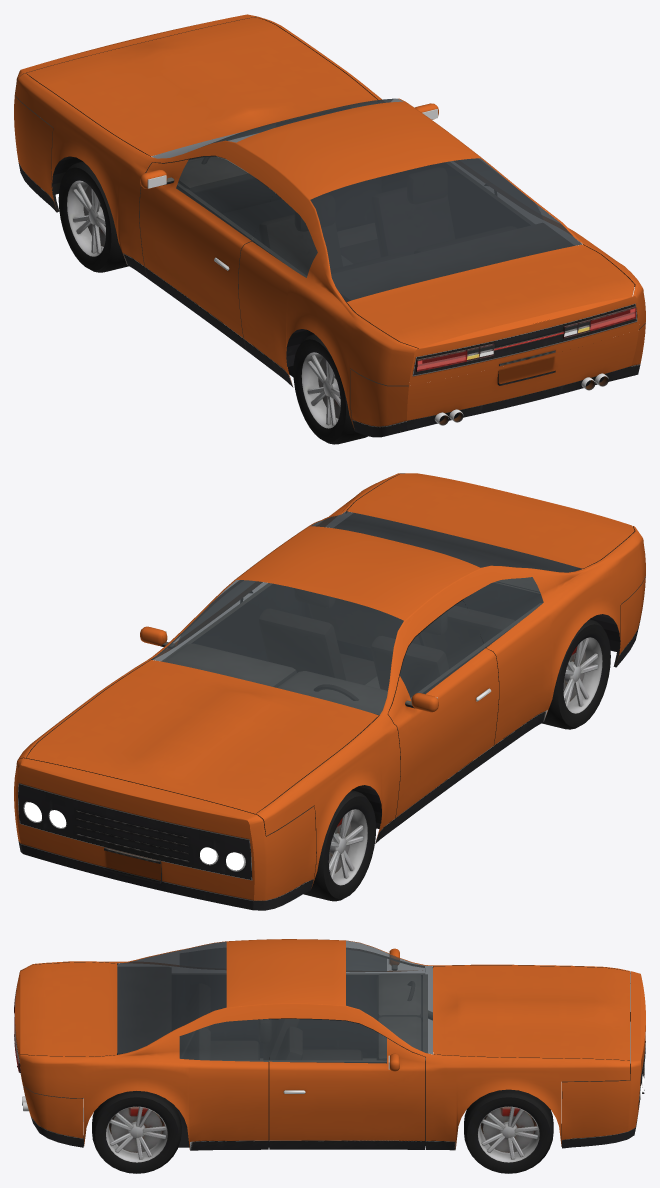
Rendered from muscle_car.glb.
3 views of the same model, one above another, from view 1: azimuth 30°, elevation 25°; view 2: azimuth 150°, elevation 25°; view 3: azimuth 270°, elevation 25° (orthographic). The views are drawn at different scales.
Parts seen in each view (by area): view 1: lod0, hood, window_rear, door_fl, trunk, bumper_r, wheel_fl_mesh, wheel_rl_mesh, bumper_f, window_l, window_front; view 2: lod0, hood, bumper_f, window_front, door_fl, trunk, wheel_fl_mesh, window_rear, wheel_rl_mesh, window_l, door_fr, bumper_r; view 3: lod0, door_fr, hood, trunk, window_rear, window_front, bumper_f, wheel_fr, wheel_rr, window_r, bumper_r, door_fl.
Boxes of the visible parts, left/top/right/bottom form: lod0: left=15, top=16, right=645, bottom=435; hood: left=26, top=17, right=377, bottom=156; window_rear: left=310, top=158, right=582, bottom=301; door_fl: left=139, top=156, right=275, bottom=350; trunk: left=346, top=244, right=634, bottom=348; bumper_r: left=350, top=323, right=645, bottom=437; wheel_fl_mesh: left=58, top=161, right=128, bottom=272; wheel_rl_mesh: left=293, top=334, right=367, bottom=444; bumper_f: left=14, top=14, right=256, bottom=212; window_l: left=252, top=193, right=317, bottom=277; window_front: left=151, top=98, right=403, bottom=158; lod0: left=18, top=473, right=645, bottom=889; hood: left=26, top=660, right=378, bottom=814; bumper_f: left=14, top=758, right=316, bottom=910; window_front: left=151, top=580, right=403, bottom=714; door_fl: left=387, top=600, right=498, bottom=829; trunk: left=347, top=473, right=634, bottom=568; wheel_fl_mesh: left=303, top=790, right=376, bottom=901; window_rear: left=310, top=511, right=581, bottom=572; wheel_rl_mesh: left=542, top=619, right=610, bottom=729; window_l: left=463, top=577, right=543, bottom=647; door_fr: left=140, top=580, right=255, bottom=659; bumper_r: left=613, top=576, right=645, bottom=667; lod0: left=14, top=939, right=630, bottom=1150; door_fr: left=269, top=1019, right=425, bottom=1149; hood: left=433, top=965, right=630, bottom=1060; trunk: left=15, top=962, right=117, bottom=1056; window_rear: left=117, top=941, right=226, bottom=1054; window_front: left=346, top=941, right=432, bottom=1054; bumper_f: left=561, top=971, right=645, bottom=1148; wheel_fr: left=464, top=1089, right=553, bottom=1173; wheel_rr: left=92, top=1091, right=181, bottom=1173; window_r: left=179, top=1019, right=268, bottom=1061; bumper_r: left=17, top=1066, right=83, bottom=1147; door_fl: left=346, top=948, right=424, bottom=971.
Size of what is drawn, in the model's own units: 2.11 by 1.36 by 4.93.
12 materials, 8 textured.
